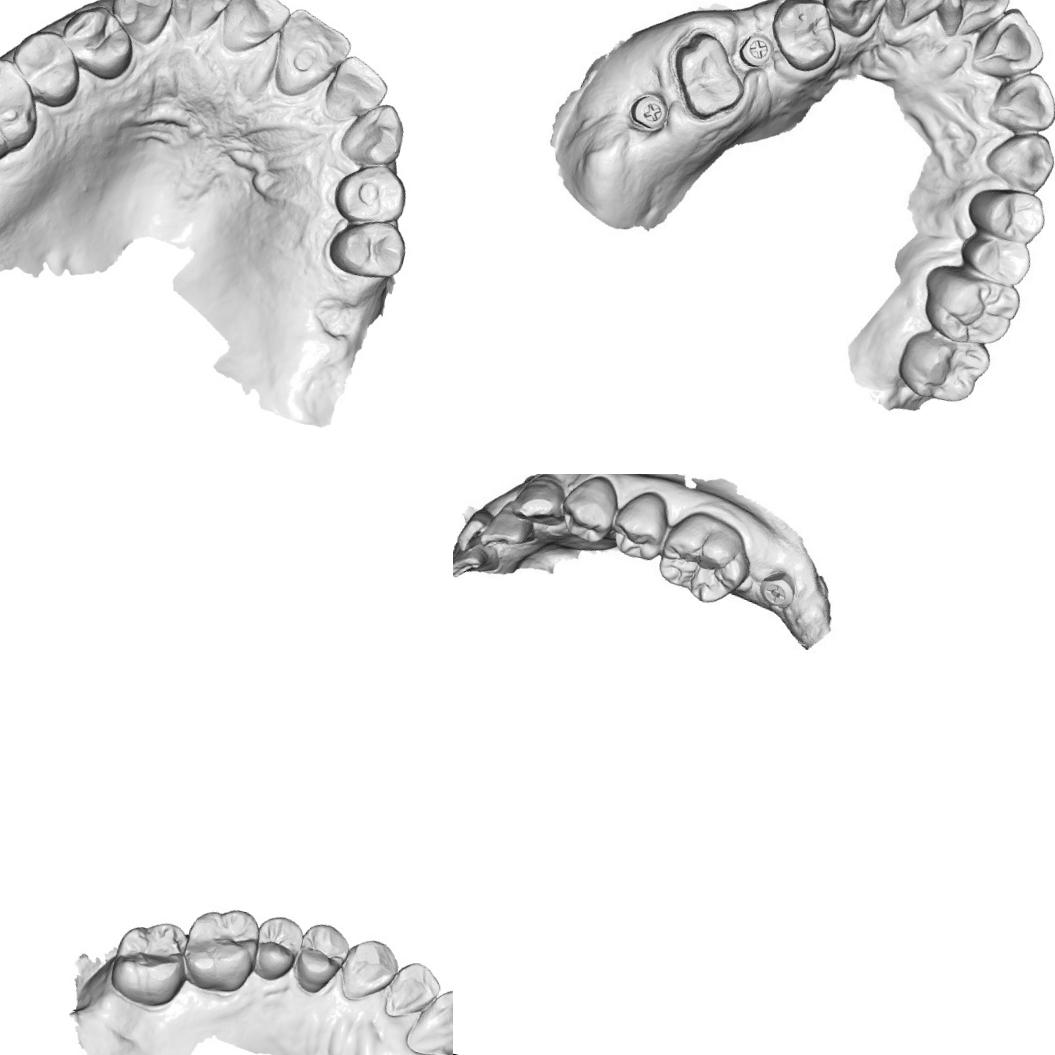canine: (334, 94, 413, 174), (332, 931, 406, 1010), (981, 122, 1055, 196), (103, 0, 179, 50), (814, 0, 893, 44), (509, 474, 567, 528)
crown: (662, 24, 755, 129)
implant_plus: (752, 562, 804, 618), (618, 86, 673, 135), (736, 31, 776, 74)
incisor: (266, 3, 359, 108), (965, 0, 1055, 89), (318, 49, 395, 132), (979, 62, 1055, 140), (215, 0, 298, 67), (378, 955, 448, 1028), (932, 0, 1015, 51), (401, 978, 453, 1055), (161, 0, 239, 46), (482, 502, 538, 558), (875, 0, 949, 36), (453, 504, 490, 559)
molar: (912, 258, 1030, 356), (653, 509, 753, 610), (102, 911, 198, 1015), (173, 898, 266, 1000), (890, 324, 996, 412), (0, 45, 52, 172)
premolar: (2, 23, 90, 112), (53, 0, 143, 86), (959, 175, 1055, 250), (323, 208, 413, 287), (327, 154, 414, 232), (760, 0, 845, 77), (287, 918, 354, 1002), (954, 227, 1038, 290), (245, 909, 307, 987), (606, 494, 670, 568), (560, 474, 619, 538)
